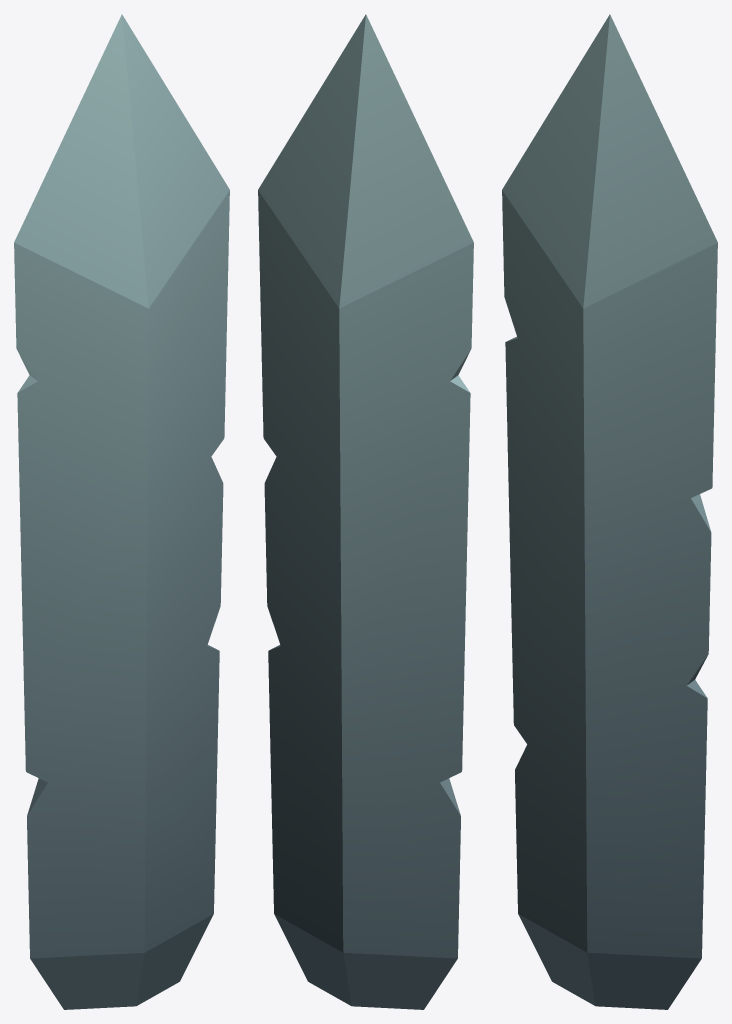
Rendered from blade_001.fbx.
3 views of the same model, side by side, from view 1: azimuth 30°, elevation 25°; view 2: azimuth 150°, elevation 25°; view 3: azimuth 330°, elevation 25° (orthographic).
Visible parts, largest first — view 1: blade.001; view 2: blade.001; view 3: blade.001.
Part boxes in pixels (box(x1,y1,x2,y2)): blade.001: box(14, 14, 229, 1009); blade.001: box(258, 14, 473, 1009); blade.001: box(502, 14, 717, 1009).
Bounding box in the file's own units: 23.01 × 99.98 × 9.86.
